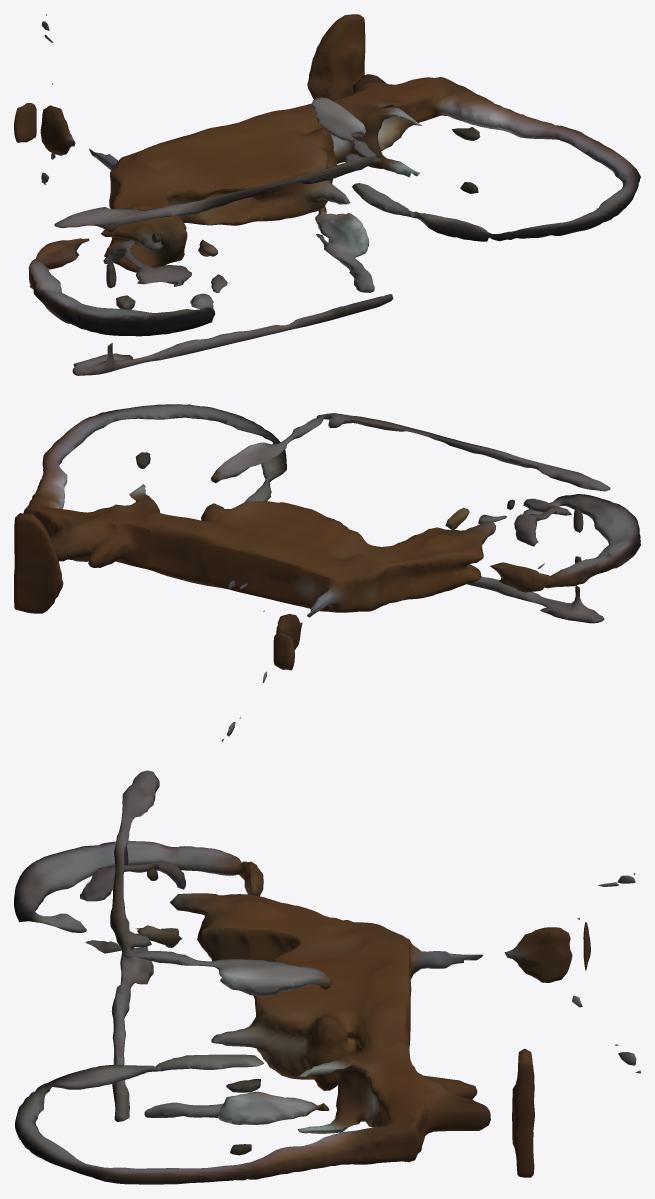
3 views of the same model, one above another, from view 1: azimuth 30°, elevation 25°; view 2: azimuth 150°, elevation 25°; view 3: azimuth 270°, elevation 25° (orthographic). The views are drawn at different scales.
Parts seen in each view (by area): view 1: plyFile; view 2: plyFile; view 3: plyFile.
Boxes of the visible parts, <box> form: plyFile: <box>14,14,640,375</box>; plyFile: <box>14,404,640,741</box>; plyFile: <box>14,770,640,1184</box>.
Size of the model in its own units: 198 by 56.38 by 160.
